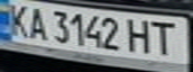1: (66, 10, 84, 47)
2: (100, 14, 124, 52)
3: (48, 8, 69, 45)
4: (81, 12, 103, 48)
A: (21, 4, 51, 42)
H: (124, 16, 157, 55)
K: (3, 1, 33, 38)
T: (148, 19, 184, 56)
